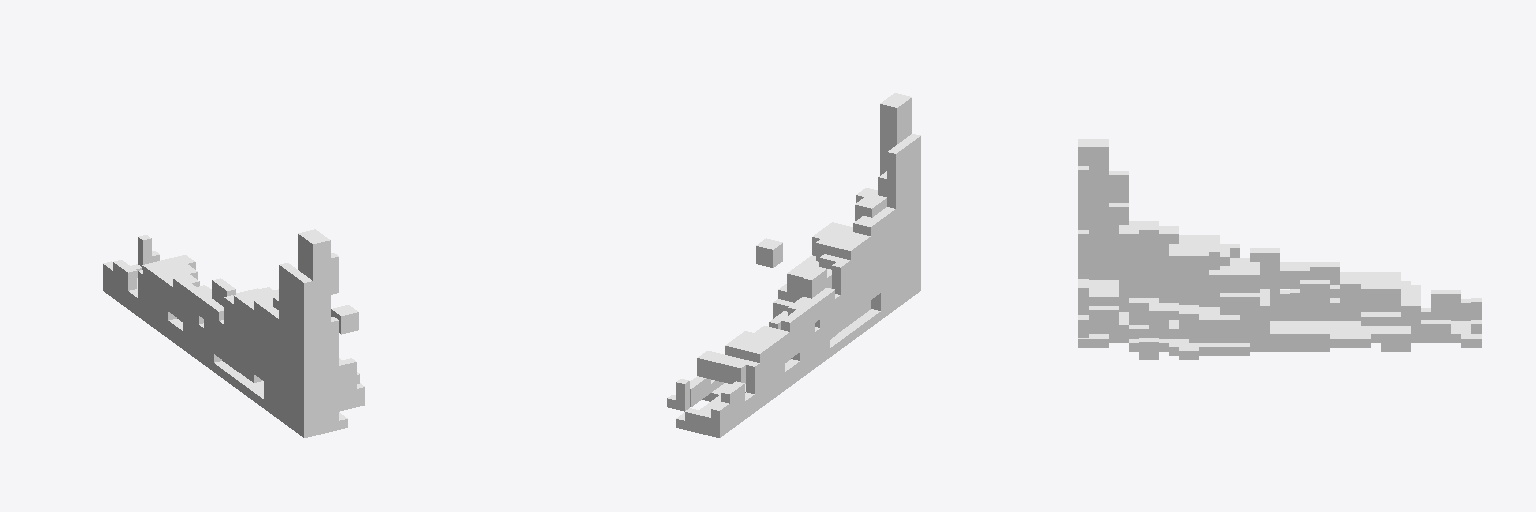
Rendered from finalwall6.obj.
3 renders of one model, left to right at view 1: azimuth 30°, elevation 25°; view 2: azimuth 150°, elevation 25°; view 3: azimuth 270°, elevation 25°, orthographic.
Parts seen in each view (by area): view 1: finalwall6; view 2: finalwall6; view 3: finalwall6.
Boxes of the visible parts, box(x1,y1,x2,y2) form: finalwall6: box(103, 229, 364, 437); finalwall6: box(667, 93, 920, 437); finalwall6: box(1078, 139, 1481, 359).
Size of the model in its own units: 12 by 21 by 40.